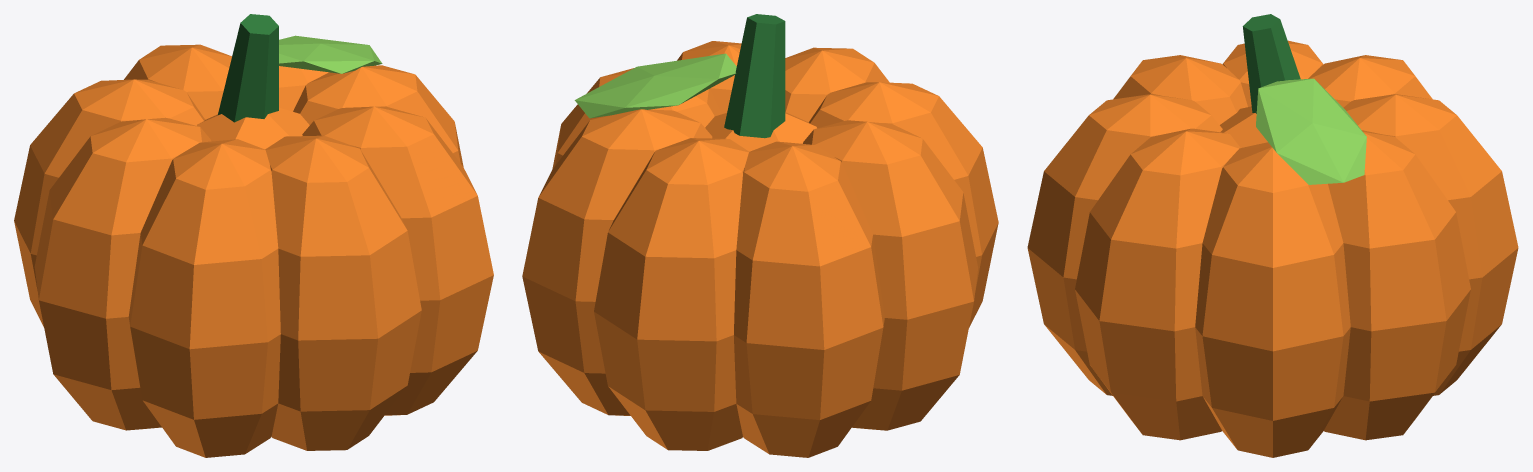
The model's file is Pumpkin.fbx.
3 views of the same model, side by side, from view 1: azimuth 30°, elevation 25°; view 2: azimuth 150°, elevation 25°; view 3: azimuth 270°, elevation 25° (orthographic).
Parts seen in each view (by area): view 1: Pumpkin; view 2: Pumpkin; view 3: Pumpkin.
Part boxes in pixels (x1=…): Pumpkin: x1=14, y1=14, x2=493, y2=457; Pumpkin: x1=522, y1=14, x2=998, y2=457; Pumpkin: x1=1027, y1=14, x2=1518, y2=457.
Size of the model in its own units: 3.84 by 3.29 by 3.84.
1 material, 1 textured.
